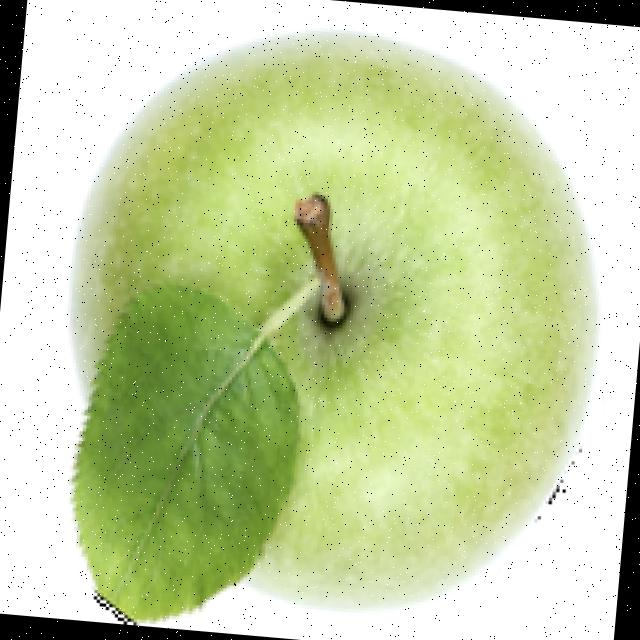apple: (63, 24, 601, 624)
